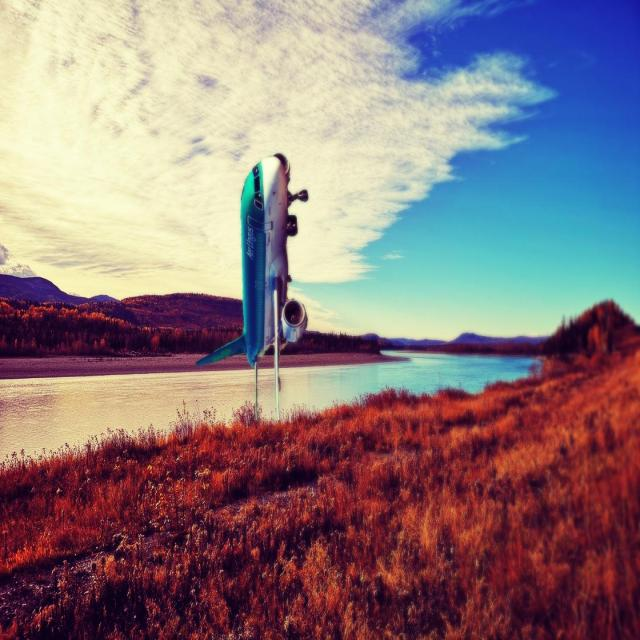airplane: (195, 151, 310, 421)
